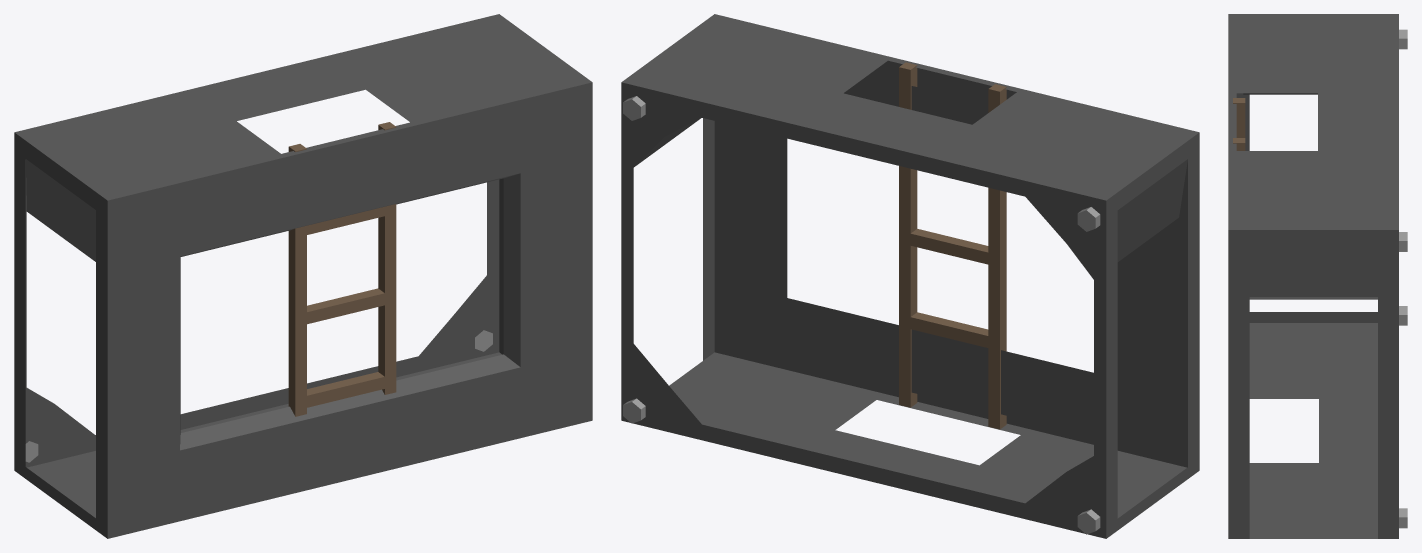
The model's file is Room4-4way-ladder.fbx.
The picture shows the model from 3 angles, left to right: view 1: azimuth 30°, elevation 25°; view 2: azimuth 150°, elevation 25°; view 3: azimuth 270°, elevation 25°; orthographic projection. The views are drawn at different scales.
Parts seen in each view (by area): view 1: Room-4way-bolted; view 2: Room-4way-bolted; view 3: Room-4way-bolted.
Boxes of the visible parts, x1,y1,x2,y2 form: Room-4way-bolted: (14, 14, 592, 538); Room-4way-bolted: (621, 14, 1199, 538); Room-4way-bolted: (1228, 14, 1407, 538).
Size of the model in its own units: 6 by 4.01 by 2.1.
